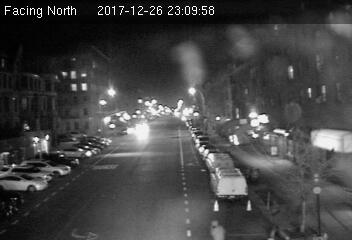truck: (213, 169, 252, 201)
